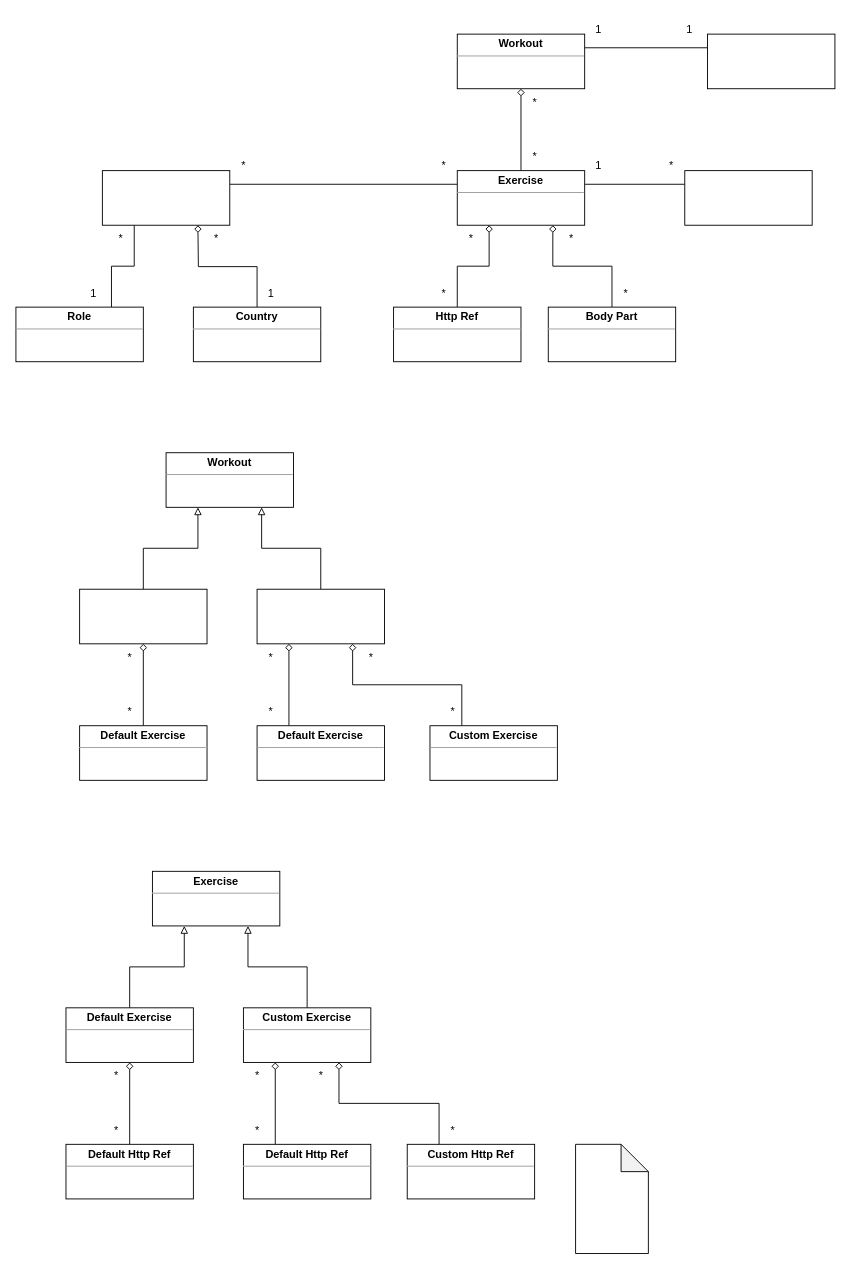
Image size: 851x1269. Some labels were removed from this diagram. The shapes that lost their labels are listed below. From the top down, each one's box as (x1, y1, x2, y2) in pixels, then its label:
(707, 33, 835, 89): Reminder
(101, 170, 230, 225): User
(684, 170, 812, 225): Exercise Completion Record
(79, 588, 207, 644): Default Workout
(256, 588, 384, 644): Custom Workout
(575, 1143, 648, 1254): Body Parts are always default
